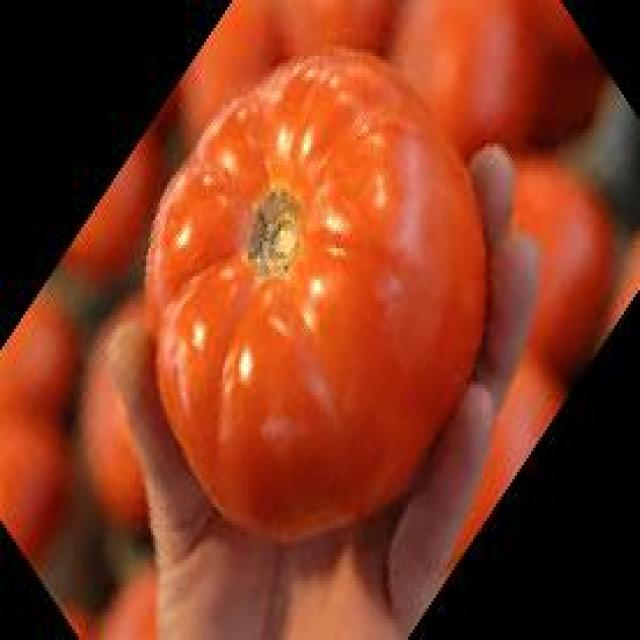Tomato: (142, 41, 488, 544)
